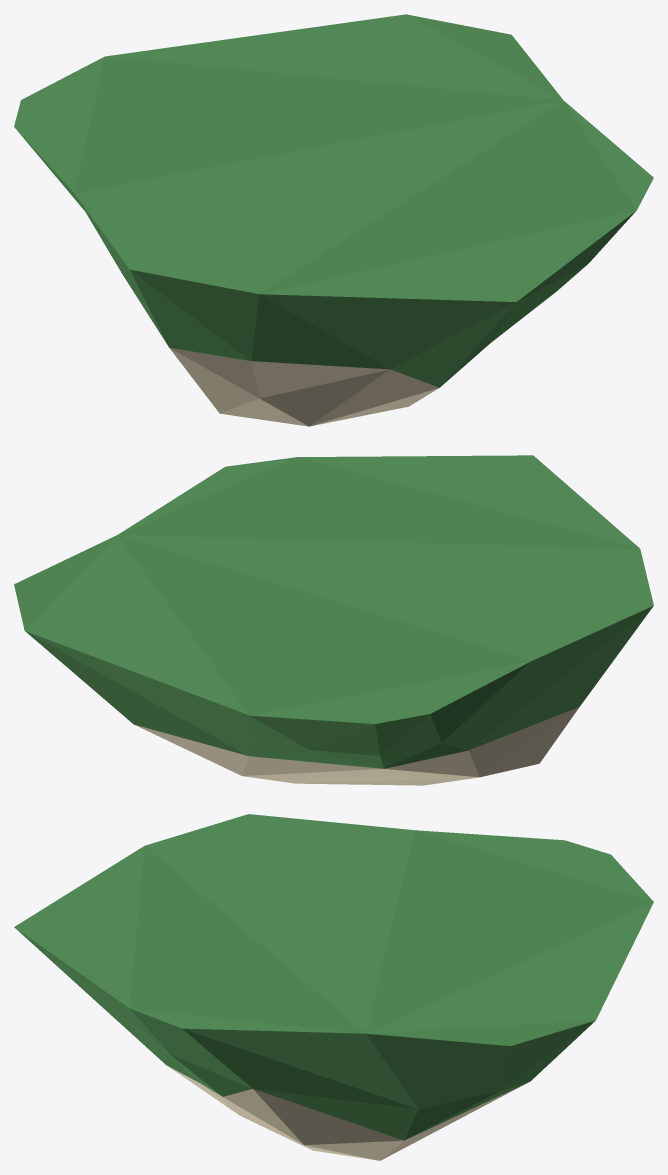
The model's file is terrain.obj.
3 renders of one model, top to bottom at view 1: azimuth 30°, elevation 25°; view 2: azimuth 150°, elevation 25°; view 3: azimuth 270°, elevation 25°, orthographic. The views are drawn at different scales.
Visible parts, largest first — view 1: terrain_立方体; view 2: terrain_立方体; view 3: terrain_立方体.
Part boxes in pixels (x1=…): terrain_立方体: x1=14, y1=14, x2=653, y2=426; terrain_立方体: x1=14, y1=455, x2=653, y2=785; terrain_立方体: x1=14, y1=814, x2=653, y2=1160.
Size of the model in its own units: 143 by 55.28 by 167.
Materials: 1 (1 with a texture image).
